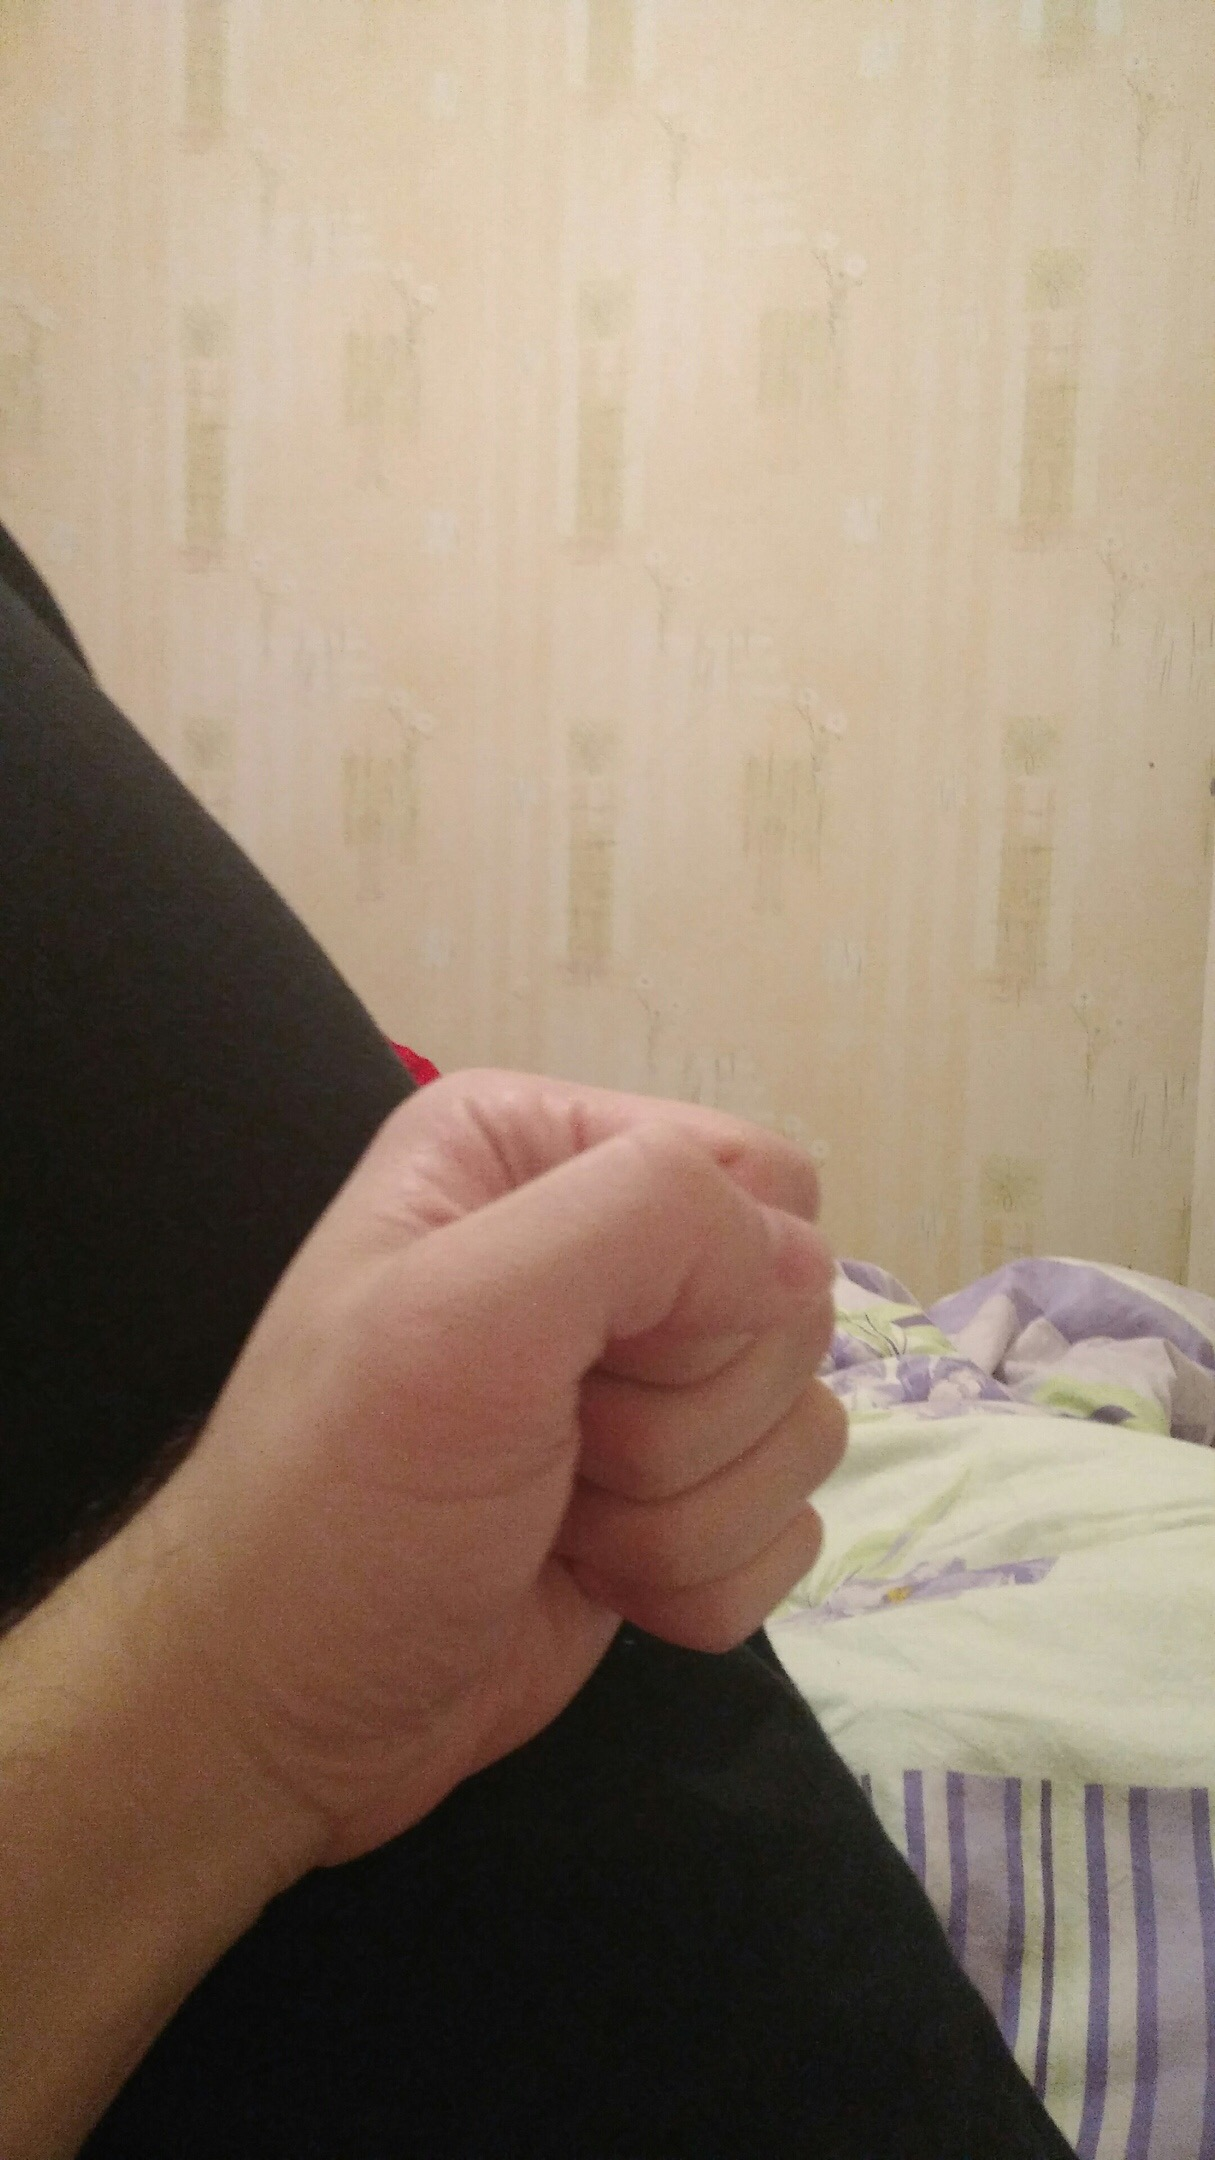hand: (346, 1122, 837, 1725)
